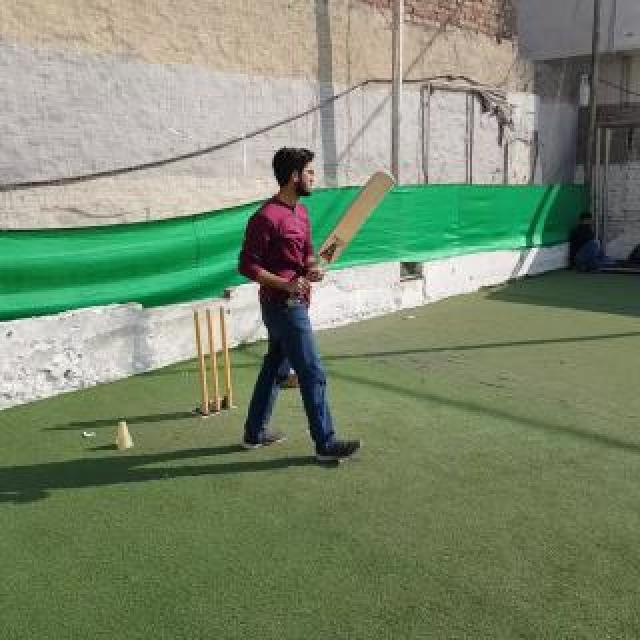bat: (286, 170, 396, 306)
